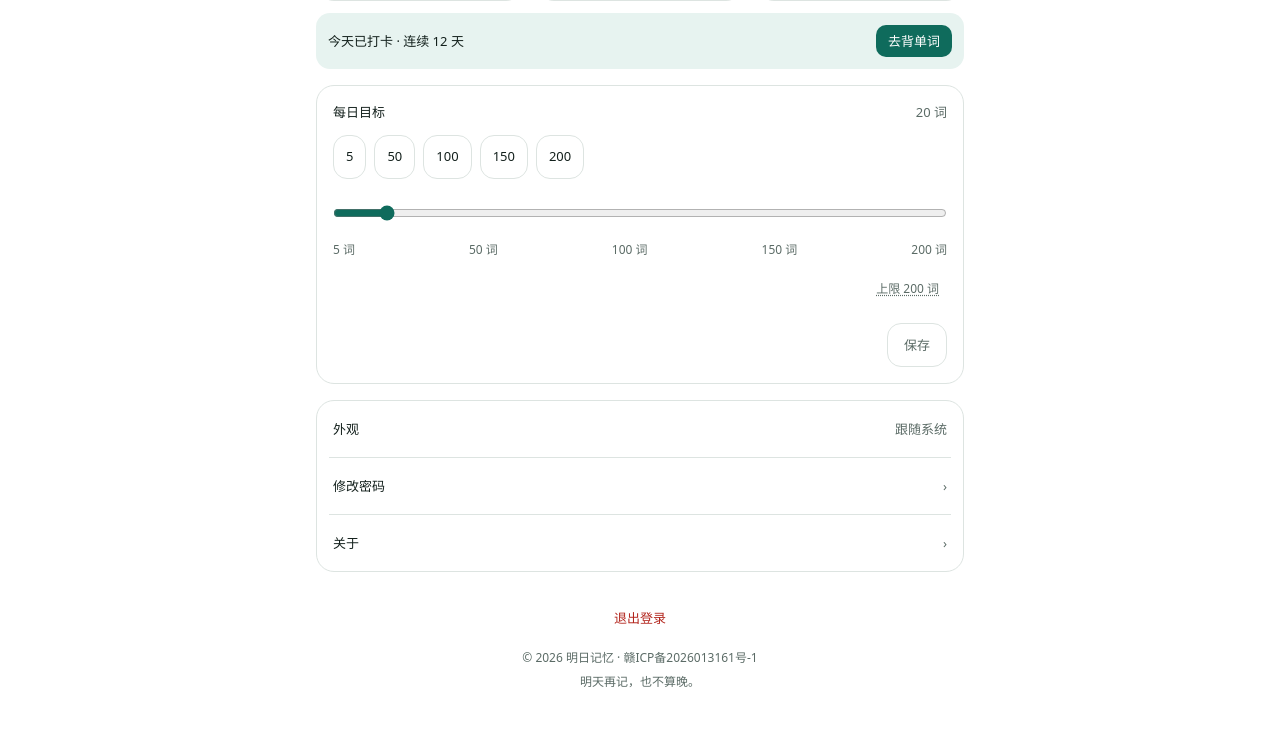
Test: K 组 · G 区退出登录（§3.8.1:958 单独一行危险色 + §3.8.2:973 必过 ConfirmSheet；清凭据只经 auth-store.signOut()） › K-04 确认层点「取消」：只收层，不清凭据、不跳转、0 请求、0 toast
The image size is (1280, 731).
(page scrolled)
Click the button "退出登录".
click(640, 618)  # box 598,596 -> 682,640
Wait 80 ms
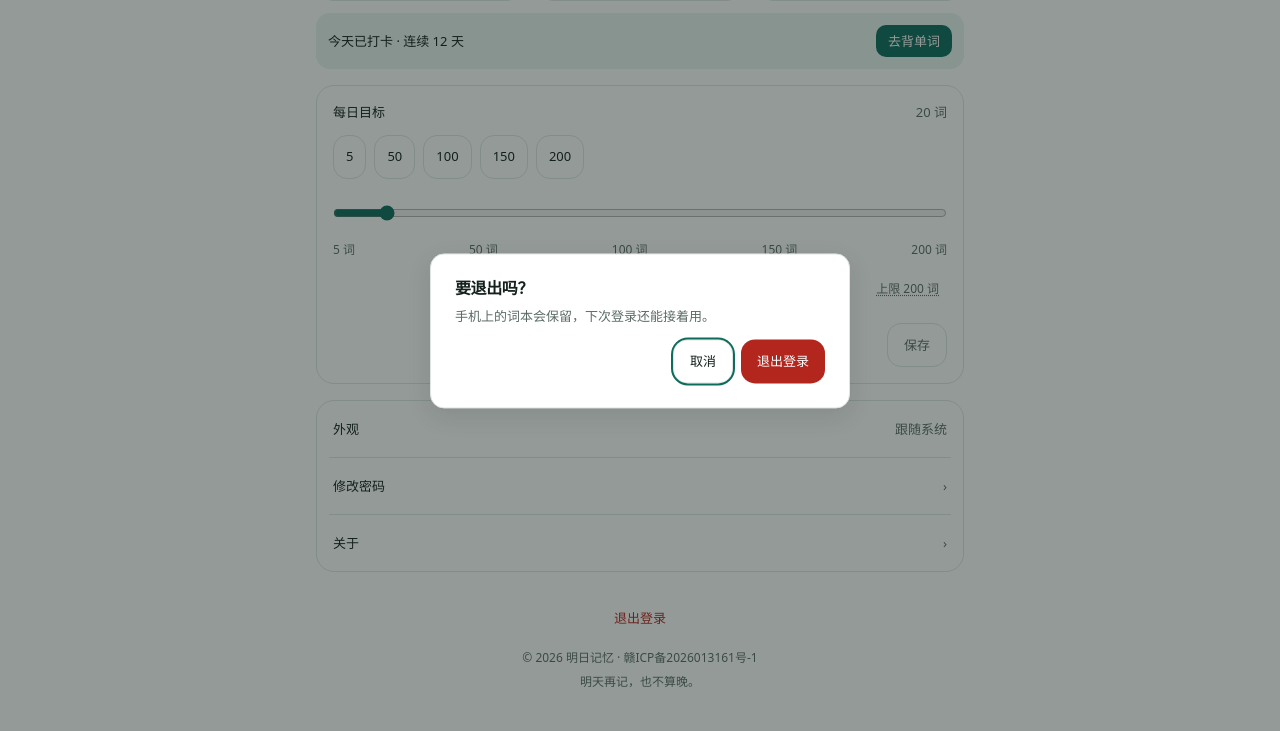
Now the dialog with test id "me-signout" is shown, box 430,253 -> 850,408
Click the button "取消".
click(703, 362)  # box 673,340 -> 733,384
Wait 80 ms
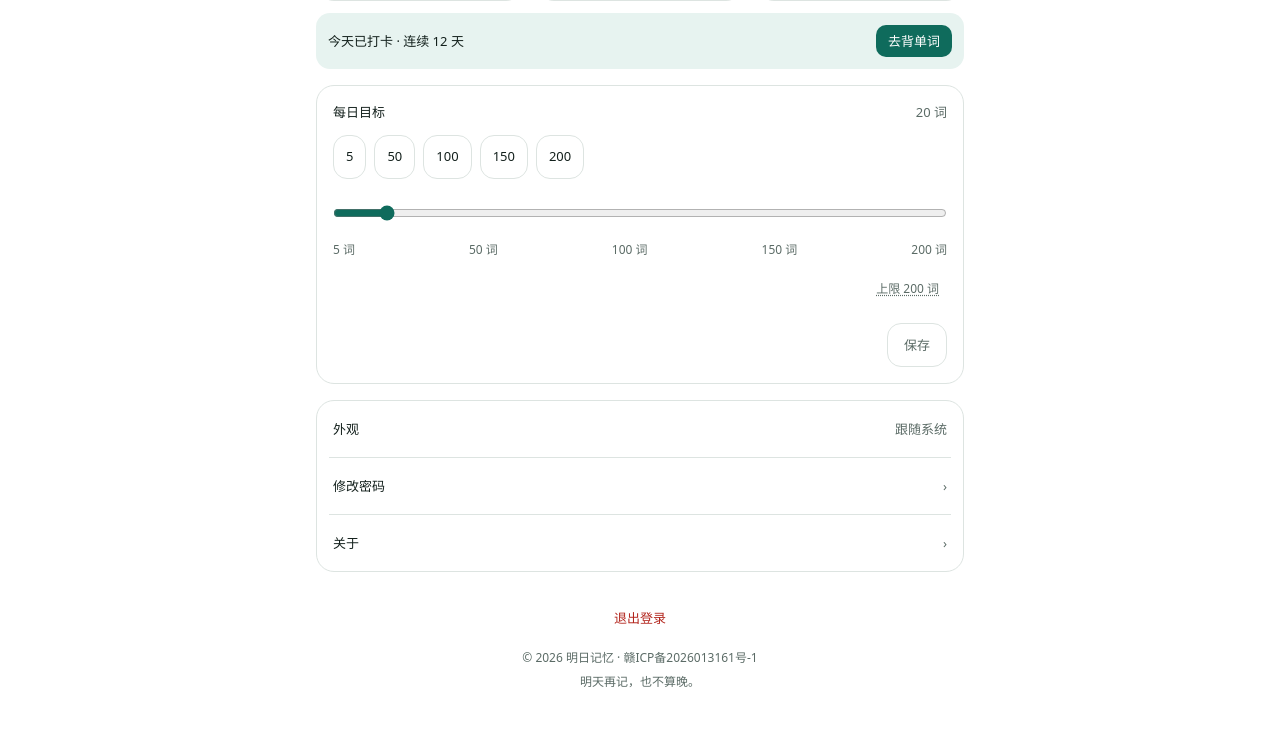
Now the dialog with test id "me-signout" is gone
